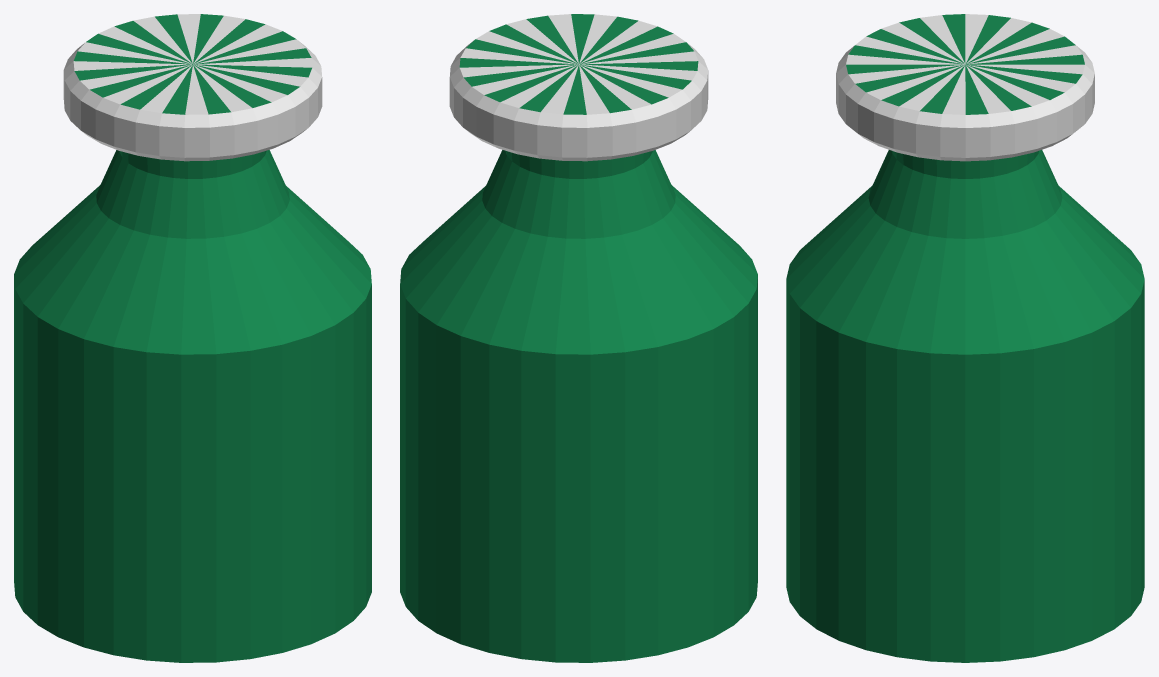
File: bottle24.glb
The picture shows the model from 3 angles, left to right: view 1: azimuth 30°, elevation 25°; view 2: azimuth 150°, elevation 25°; view 3: azimuth 270°, elevation 25°; orthographic projection.
Visible parts, largest first — view 1: Bottle24; view 2: Bottle24; view 3: Bottle24.
Boxes of the visible parts, x1,y1,x2,y2 form: Bottle24: (14,14,371,662); Bottle24: (400,14,757,662); Bottle24: (786,14,1144,662).
Size of the model in its own units: 1.57 by 2.53 by 1.57.
